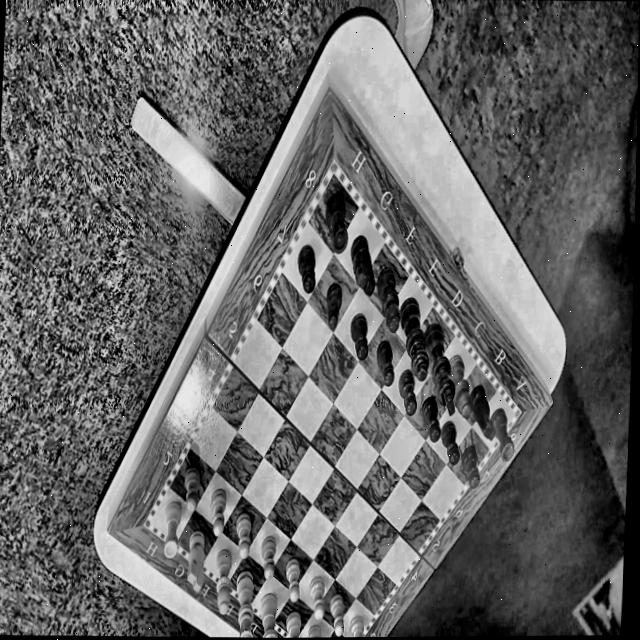chessboard: (151, 171, 514, 638)
